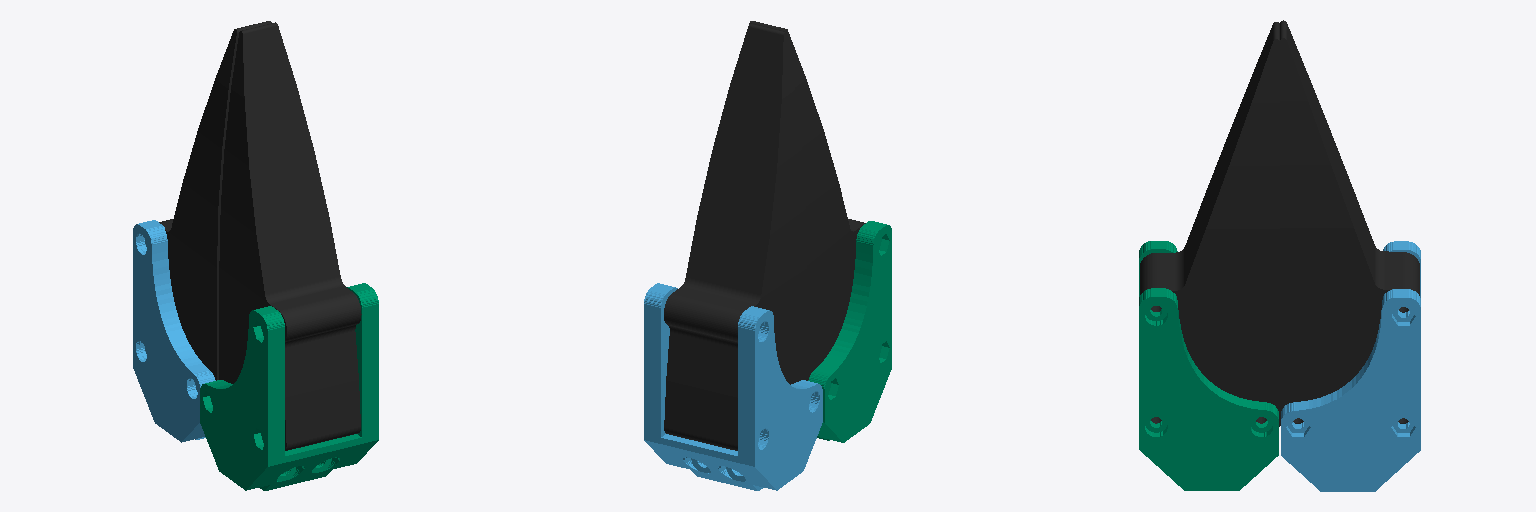
robot.urdf — panda_hand_with_long_fingers:
<?xml version="1.0" encoding="utf-8"?>
<robot xmlns:drake='http://drake.mit.edu' name="panda_hand_with_long_fingers">
  <material name="dark_grey">
    <color rgba="0.2 0.2 0.2 1"/>
  </material>
  <link name="panda_hand">
    <inertial>
      <mass value="0.73" />
      <origin xyz="0 0.0015244 0.0275912" rpy="0 0 0" />
      <inertia ixx="0.00278560230025" ixy="0.0" ixz="0.0" iyy="0.000400033405336" iyz="0.0"
        izz="0.00256378041832" />
    </inertial>
    <visual>
      <origin rpy="0 0 0" />
      <geometry>
        <mesh filename="package://drake_models/franka_description/meshes/visual/hand.gltf" />
      </geometry>
    </visual>
    <collision>
      <origin rpy="0 0 0" xyz="0 -0.06 0.015" />
      <geometry>
        <sphere radius="0.05" />
      </geometry>
    </collision>
    <collision>
      <origin rpy="0 0 0" xyz="0 -0.06 0.03" />
      <geometry>
        <sphere radius="0.05" />
      </geometry>
    </collision>
    <collision>
      <origin rpy="0 0 0" xyz="0 0 0.03" />
      <geometry>
        <sphere radius="0.05" />
      </geometry>
    </collision>
    <collision>
      <origin rpy="0 0 0" xyz="0 0.06 0.03" />
      <geometry>
        <sphere radius="0.05" />
      </geometry>
    </collision>
  </link>
  <link name="panda_leftfinger">
    <inertial>
      <mass value="0.1" />
      <origin xyz="0 0.0145644 0.0227941" rpy="0 0 0" />
      <inertia ixx="3.01220925051e-05" ixy="0.0" ixz="0.0" iyy="2.95873808038e-05" iyz="0.0"
        izz="6.95125211657e-06" />
    </inertial>
    <visual>
      <origin rpy="3.14159265359 0 -1.57079632679" xyz="-0.0105 0.0175 0.019" />
      <geometry>
        <mesh filename="package://drake_models/franka_description/meshes/visual/finger_holder.obj" />
      </geometry>
    </visual>
    <visual>
      <origin rpy="3.14159265359 0 1.57079632679" xyz="0.0125 0 0.023" />
      <geometry>
        <mesh filename="package://drake_models/franka_description/meshes/visual/long_finger.obj" />
      </geometry>
      <material name="dark_grey" />
    </visual>
    <collision>
      <origin rpy="3.14159265359 0 1.57079632679" xyz="0.0125 0 0.023" />
      <geometry>
        <mesh filename="package://drake_models/franka_description/meshes/visual/long_finger.obj" />
      </geometry>
    </collision>
  </link>
  <link name="panda_rightfinger">
    <inertial>
      <mass value="0.1" />
      <origin xyz="0 0.0145644 0.0227941" rpy="0 0 3.14159265359" />
      <inertia ixx="3.01220925051e-05" ixy="0.0" ixz="0.0" iyy="2.95873808038e-05" iyz="0.0"
        izz="6.95125211657e-06" />
    </inertial>
    <visual>
      <origin rpy="3.14159265359 0 1.57079632679" xyz="0.0105 -0.0175 0.019" />
      <geometry>
        <mesh filename="package://drake_models/franka_description/meshes/visual/finger_holder.obj" />
      </geometry>
    </visual>
    <visual>
      <origin rpy="3.14159265359 0 -1.57079632679" xyz="-0.0125 0 0.023" />
      <geometry>
        <mesh filename="package://drake_models/franka_description/meshes/visual/long_finger.obj" />
      </geometry>
      <material name="dark_grey" />
    </visual>
    <collision>
      <origin rpy="3.14159265359 0 -1.57079632679" xyz="-0.0125 0 0.023" />
      <geometry>
        <mesh filename="package://drake_models/franka_description/meshes/visual/long_finger.obj" />
      </geometry>
    </collision>
  </link>
  <link name="finger_tip" />
  <joint name="finger_tip_joint" type="fixed">
    <parent link="panda_hand" />
    <child link="finger_tip" />
    <origin rpy="3.14159 0 0" xyz="0 0 0.203191" />
  </joint>
  <joint name="panda_finger_joint1" type="prismatic">
    <parent link="panda_hand" />
    <child link="panda_rightfinger" />
    <origin rpy="0 0 0" xyz="0 0 0.0584" />
    <axis xyz="0 1 0" />
    <limit effort="20" lower="-0.045" upper="0.0" velocity="0.2" drake:acceleration="1.0" />
  </joint>
  <joint name="panda_finger_joint2" type="prismatic">
    <parent link="panda_hand" />
    <child link="panda_leftfinger" />
    <origin rpy="0 0 0" xyz="0 0 0.0584" />
    <axis xyz="0 1 0" />
    <limit effort="20" lower="0.0" upper="0.045" velocity="0.2" drake:acceleration="1.0" />
  </joint>
  <link name="panda_finger_tip_center" />
  <joint name="_frame_weld1" type="fixed">
    <origin rpy="0 0 0" xyz="0 0 0.112" />
    <parent link="panda_hand" />
    <child link="panda_finger_tip_center" />
  </joint>
  <transmission name="panda_finger_tran1">
    <type>transmission_interface/SimpleTransmission</type>
    <joint name="panda_finger_joint1">
      <hardwareInterface>PositionJointInterface</hardwareInterface>
    </joint>
    <actuator name="panda_finger_motor1">
      <hardwareInterface>PositionJointInterface</hardwareInterface>
      <mechanicalReduction>1</mechanicalReduction>
    </actuator>
  </transmission>
  <transmission name="panda_finger_tran2">
    <type>transmission_interface/SimpleTransmission</type>
    <joint name="panda_finger_joint2">
      <hardwareInterface>PositionJointInterface</hardwareInterface>
    </joint>
    <actuator name="panda_finger_motor2">
      <hardwareInterface>PositionJointInterface</hardwareInterface>
      <mechanicalReduction>1</mechanicalReduction>
    </actuator>
  </transmission>
</robot>

--- Render facts (derived) ---
Views: 3 orthographic renders of the robot side by side, from view 1: azimuth 30°, elevation 25°; view 2: azimuth 150°, elevation 25°; view 3: azimuth 270°, elevation 25°.
Model panda_hand_with_long_fingers with 5 links and 4 joints (2 prismatic, 2 fixed), rooted at panda_hand, posed every joint at zero.
Visible links, largest first — view 1: panda_rightfinger, panda_leftfinger; view 2: panda_leftfinger, panda_rightfinger; view 3: panda_leftfinger, panda_rightfinger.
Link boxes in pixels (left/top/right/bottom): panda_rightfinger: left=200, top=22, right=378, bottom=490; panda_leftfinger: left=133, top=21, right=271, bottom=442; panda_leftfinger: left=644, top=24, right=822, bottom=490; panda_rightfinger: left=749, top=21, right=891, bottom=442; panda_leftfinger: left=1280, top=20, right=1420, bottom=491; panda_rightfinger: left=1139, top=22, right=1279, bottom=490.
Size in the robot's own frame: 0.0384 by 0.0804 by 0.1398 metres.
4 mesh visuals loaded from 3 distinct referenced files (2 OBJ); not drawn: 1 (reference not matched to a file when rendering).